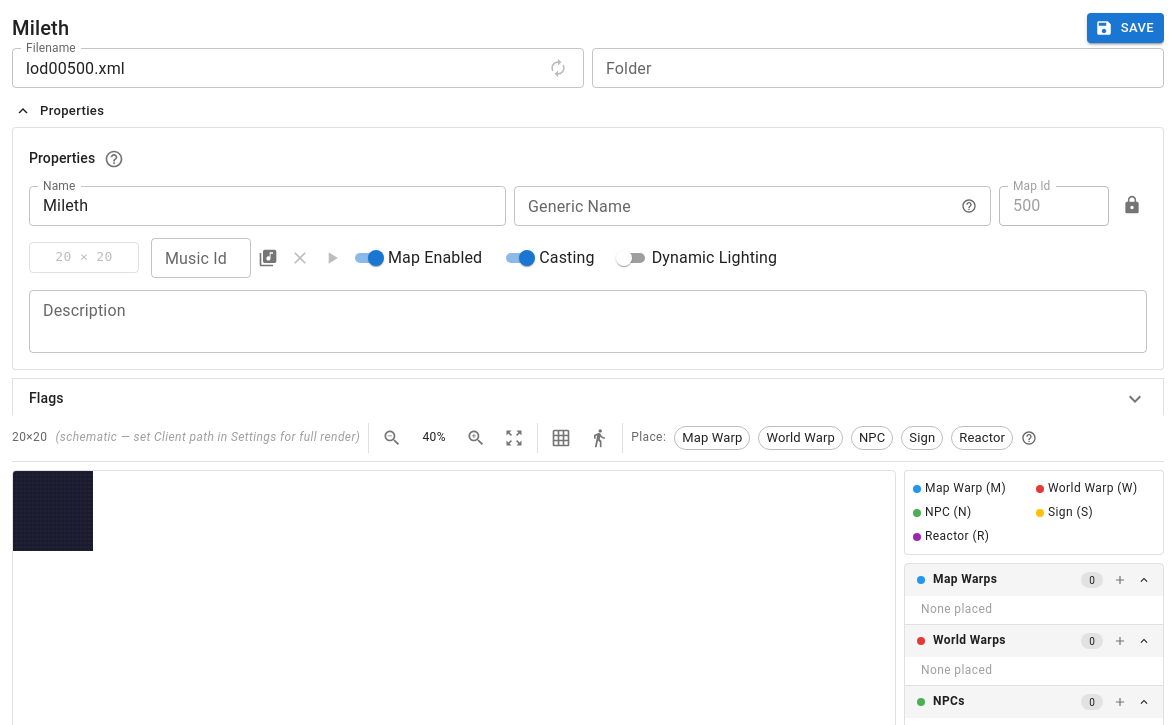
MapEditorPanel — Properties above the map › remembers whether the section is open
The width and height of the screenshot is (1176, 725).
Step 1. Click the button "Properties" → click(60, 111), box top-left (12, 96), bottom-right (108, 127)
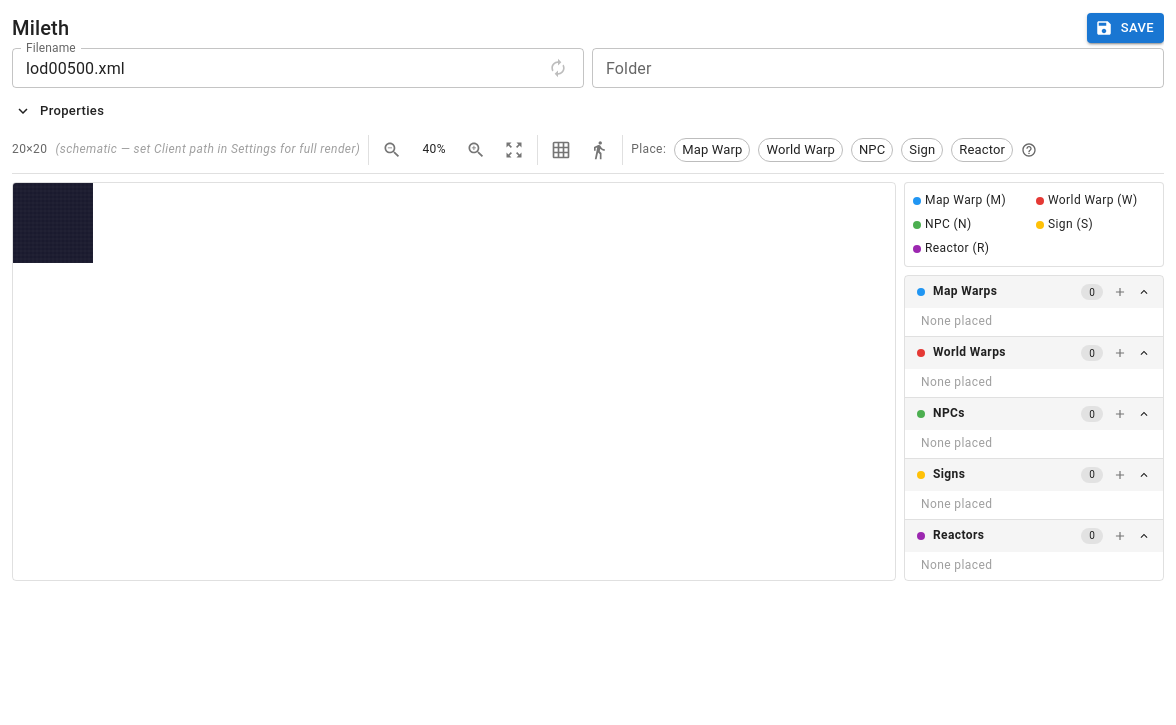
Expected: the button "Properties" is collapsed, top-left (12, 96), bottom-right (108, 127)
